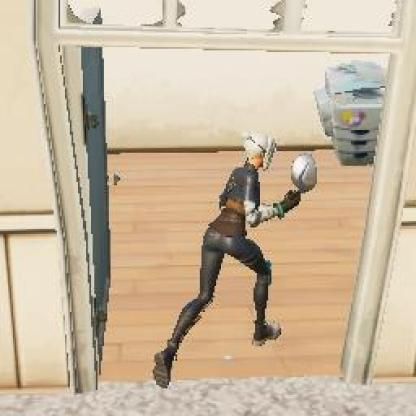dumpster: (153, 130, 302, 388)
